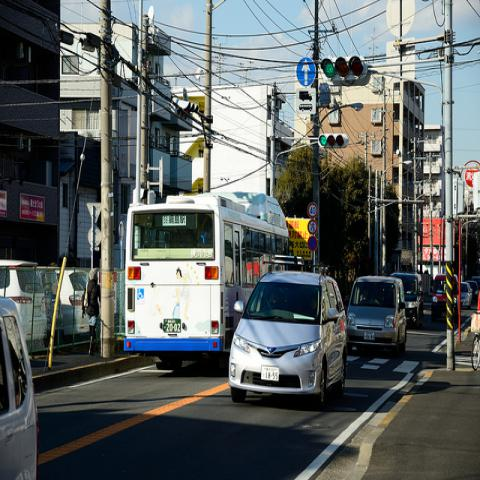bus: (124, 194, 287, 374)
car: (228, 270, 348, 406), (0, 298, 40, 479), (346, 275, 407, 358), (0, 260, 47, 353), (389, 271, 424, 325), (62, 270, 90, 334), (39, 268, 62, 333), (430, 274, 458, 317), (460, 280, 474, 311), (464, 280, 479, 304)
